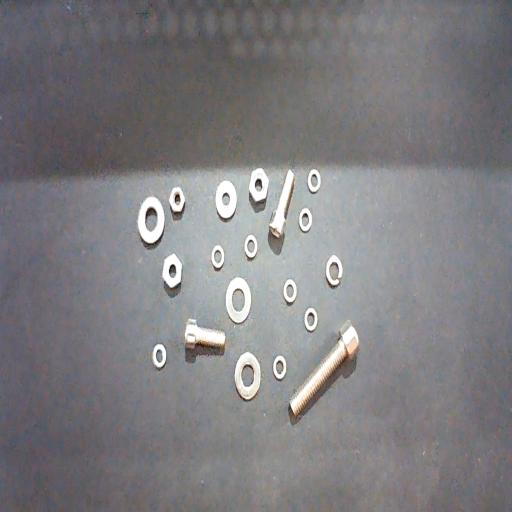nut: (249, 167, 269, 203), (162, 254, 182, 288), (169, 186, 185, 214)
screw: (289, 319, 360, 418), (269, 169, 294, 237), (185, 319, 226, 349)
washer: (138, 196, 165, 244), (235, 353, 261, 400), (226, 276, 251, 323), (216, 180, 237, 219), (326, 256, 343, 286), (211, 244, 225, 270), (152, 344, 166, 369), (273, 355, 287, 380), (284, 280, 298, 304), (305, 307, 318, 332), (244, 235, 258, 258), (299, 208, 312, 232), (308, 169, 321, 193)
